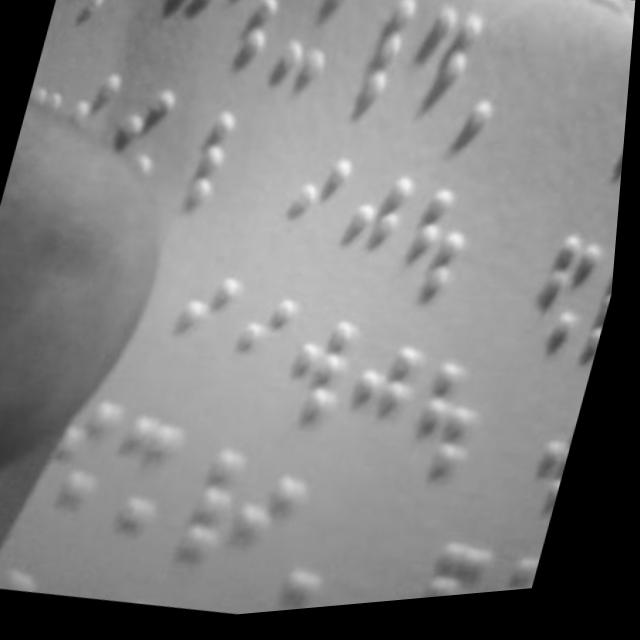braiile: (400, 359, 501, 511), (514, 222, 611, 371), (338, 335, 433, 486), (328, 163, 423, 311), (268, 139, 362, 284), (161, 437, 259, 574), (98, 413, 192, 554), (397, 0, 489, 142), (224, 459, 317, 599), (151, 93, 247, 224), (273, 314, 366, 448), (395, 180, 484, 319), (161, 260, 249, 397), (223, 286, 307, 421), (513, 396, 593, 536), (327, 0, 420, 120), (570, 70, 633, 227), (266, 0, 358, 97), (572, 237, 622, 377), (203, 0, 290, 77), (146, 0, 232, 60)
